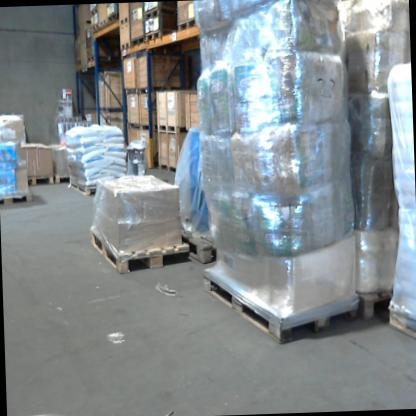pallet: (203, 260, 359, 347), (90, 223, 191, 276), (355, 287, 396, 324), (181, 231, 219, 269), (387, 305, 416, 345), (67, 176, 97, 197), (144, 29, 174, 49), (143, 5, 180, 21), (0, 190, 34, 207), (137, 85, 181, 95), (157, 123, 188, 136), (175, 16, 197, 32), (28, 175, 54, 188), (131, 33, 146, 47), (159, 164, 178, 175), (139, 123, 158, 133), (53, 175, 70, 186), (107, 12, 120, 24), (120, 40, 132, 52), (118, 15, 130, 27), (127, 120, 141, 130), (124, 87, 137, 96), (99, 18, 109, 28), (91, 22, 101, 32), (86, 54, 96, 64), (90, 6, 99, 17)
